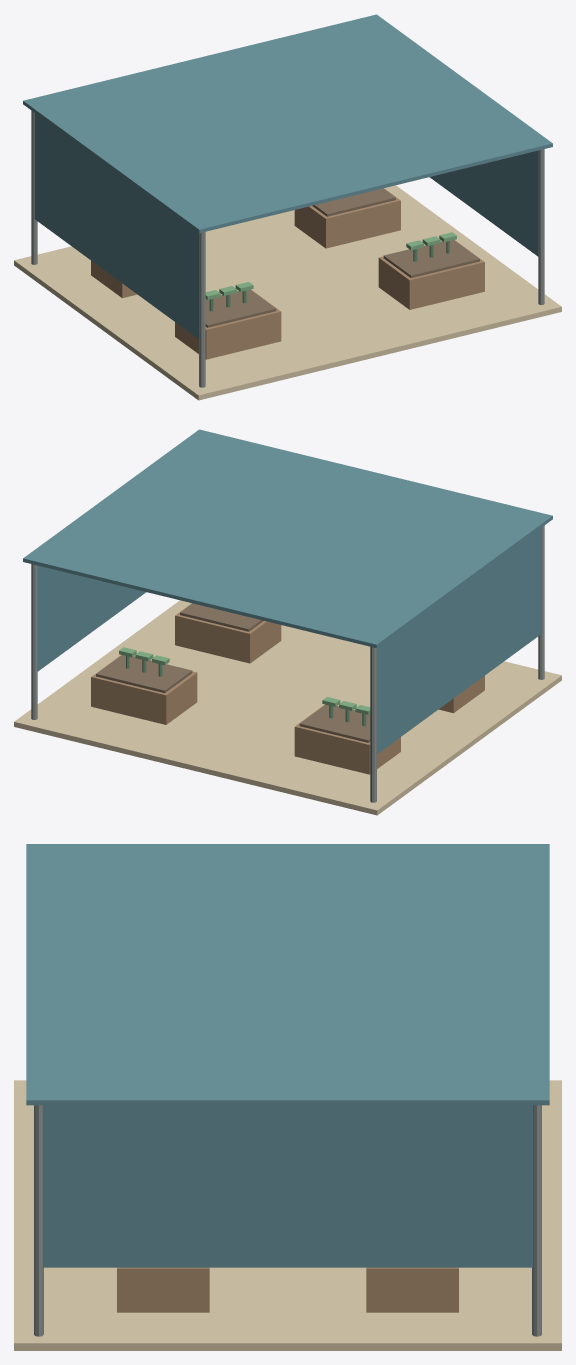
The model's file is town_greenhouse.glb.
The picture shows the model from 3 angles, top to bottom: view 1: azimuth 30°, elevation 25°; view 2: azimuth 150°, elevation 25°; view 3: azimuth 270°, elevation 25°; orthographic projection. The views are drawn at different scales.
Visible parts, largest first — view 1: greenhouse skylight, FLOOR_greenhouse path, greenhouse side glass, greenhouse side glass.001, planter timber sides.004, planter timber sides.003, planter timber sides.002, planter topsoil.004, planter topsoil.002, planter topsoil.003, greenhouse upright.001, greenhouse upright.003 (+2 smaller); view 2: greenhouse skylight, FLOOR_greenhouse path, greenhouse side glass, greenhouse side glass.001, planter timber sides.003, planter timber sides.004, planter timber sides.001, planter topsoil.003, planter topsoil.001, planter topsoil.004, greenhouse upright, greenhouse upright.002 (+2 smaller); view 3: greenhouse skylight, greenhouse side glass.001, FLOOR_greenhouse path, planter timber sides.003, planter timber sides.004, greenhouse upright.002, greenhouse upright.003.
Part boxes in pixels (bbox=[...]): greenhouse skylight: bbox=[23, 14, 552, 233]; FLOOR_greenhouse path: bbox=[14, 185, 561, 400]; greenhouse side glass: bbox=[34, 113, 198, 338]; greenhouse side glass.001: bbox=[429, 150, 538, 256]; planter timber sides.004: bbox=[378, 240, 484, 309]; planter timber sides.003: bbox=[294, 188, 400, 248]; planter timber sides.002: bbox=[175, 290, 281, 359]; planter topsoil.004: bbox=[383, 240, 479, 278]; planter topsoil.002: bbox=[205, 289, 276, 327]; planter topsoil.003: bbox=[312, 188, 395, 216]; greenhouse upright.001: bbox=[199, 232, 205, 387]; greenhouse upright.003: bbox=[538, 149, 544, 304]; greenhouse skylight: bbox=[23, 429, 552, 648]; FLOOR_greenhouse path: bbox=[14, 600, 561, 815]; greenhouse side glass: bbox=[377, 528, 541, 753]; greenhouse side glass.001: bbox=[37, 565, 146, 671]; planter timber sides.003: bbox=[91, 655, 197, 724]; planter timber sides.004: bbox=[175, 603, 281, 663]; planter timber sides.001: bbox=[294, 705, 400, 774]; planter topsoil.003: bbox=[96, 655, 192, 693]; planter topsoil.001: bbox=[299, 704, 370, 742]; planter topsoil.004: bbox=[180, 603, 263, 631]; greenhouse upright: bbox=[370, 647, 376, 802]; greenhouse upright.002: bbox=[31, 564, 37, 719]; greenhouse skylight: bbox=[26, 844, 549, 1105]; greenhouse side glass.001: bbox=[43, 1105, 532, 1267]; FLOOR_greenhouse path: bbox=[14, 1080, 561, 1350]; planter timber sides.003: bbox=[366, 1267, 458, 1312]; planter timber sides.004: bbox=[117, 1267, 209, 1312]; greenhouse upright.002: bbox=[532, 1105, 541, 1336]; greenhouse upright.003: bbox=[34, 1105, 43, 1336].
Size of the model in its own units: 7.5 by 3.29 by 6.6.
